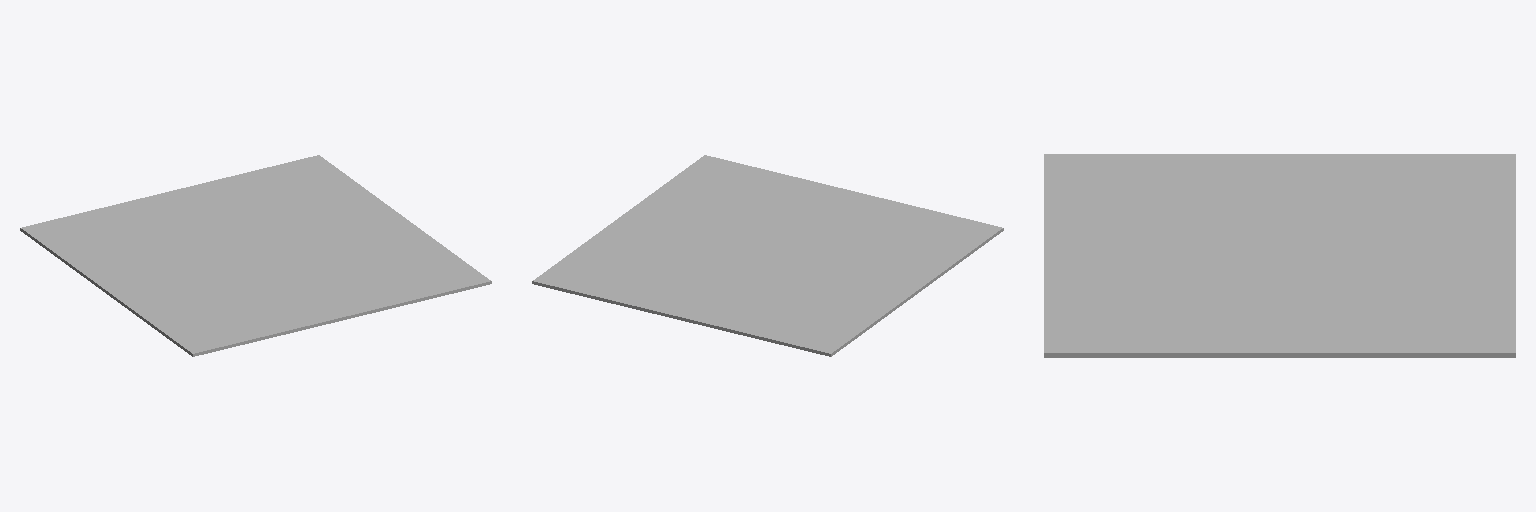
robot.urdf — table:
<robot name="table">
  <link name="table">

    <!-- rosrun gazebo_ros spawn_model -file $(rospack find ur5_single_arm_tufts)/urdf/objects/table.urdf -urdf -x 0.5 -y -0 -z 0.75 -model table -->
    
    <inertial>
      <origin xyz="0.23 0 0.755" rpy="0 0 0" />
      <mass value="1"/>
      <inertia
        ixx="0.07" ixy="0.0" ixz="0.0"
        iyy="0.40" iyz="0.0"
        izz="0.33"/>
    </inertial>

    <visual>
      <geometry>
        <box size="5 5 0.05"/>
      </geometry>
      <material name="White">
        <color rgba="0.753 0.753 0.753 1"/>
      </material>
    </visual>

    <collision>
      <geometry>
        <box size="0.5 0.5 0.05"/>
      </geometry>
    </collision>

  </link>

  <gazebo reference="table">
    <material>Gazebo/Wood</material>
  </gazebo> 

  <gazebo>
    <static>true</static>
  </gazebo>

</robot>

--- Render facts (derived) ---
The picture shows the robot from 3 angles, left to right: view 1: azimuth 30°, elevation 25°; view 2: azimuth 150°, elevation 25°; view 3: azimuth 270°, elevation 25°; orthographic projection.
Robot: table — 1 links, 0 joints (none); root link table; default pose: every joint at zero.
Links seen in each view (by area): view 1: table; view 2: table; view 3: table.
Link boxes in pixels (x1,y1,x2,y2): table: (20,155,491,356); table: (532,155,1003,356); table: (1044,154,1515,357).
Size in the robot's own frame: 5 by 5 by 0.05 metres.
Geometry: primitives only (box / cylinder / sphere), no mesh files.
